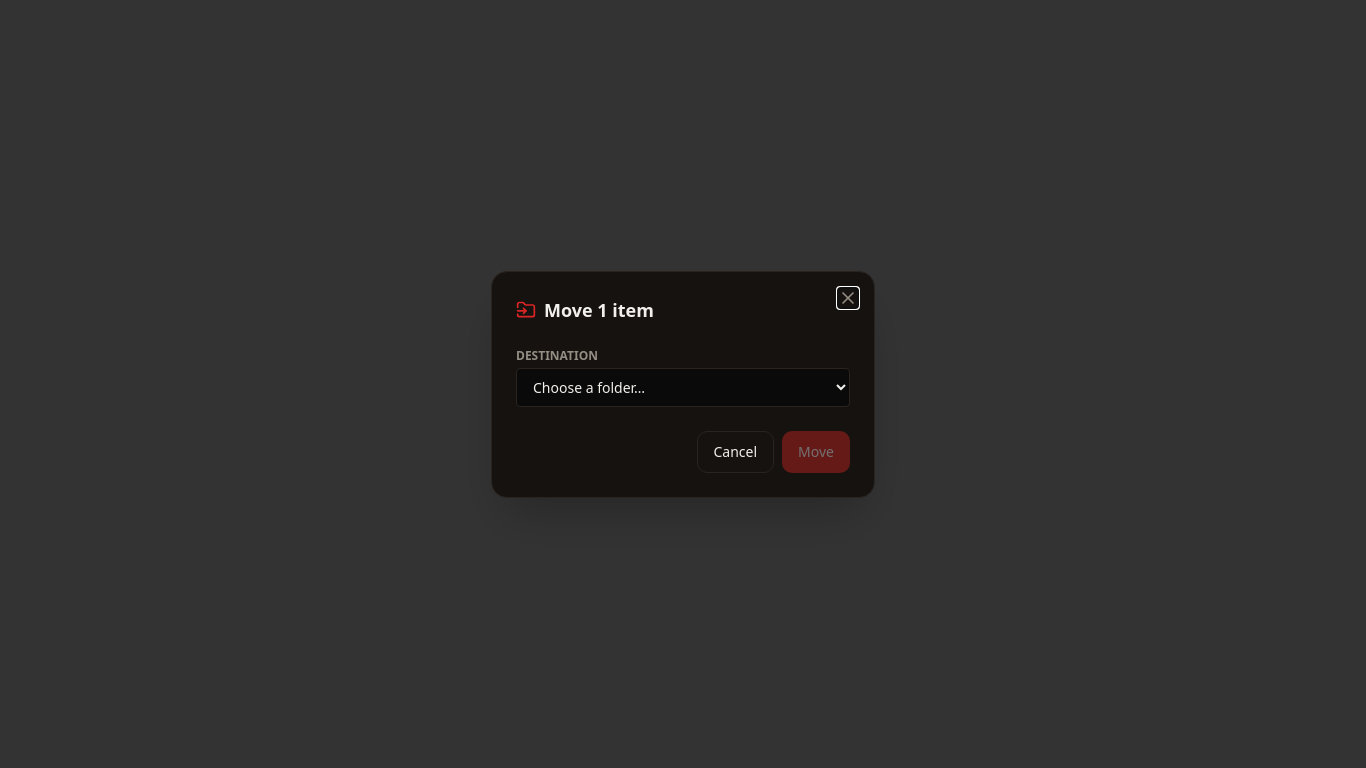
Test case: MoveFilesModal › warns that a shared destination widens who can read what is moved there
Select "Photos (shared)" in the dropdown labelled "Destination" at [683, 387], box [516,368,850,406]
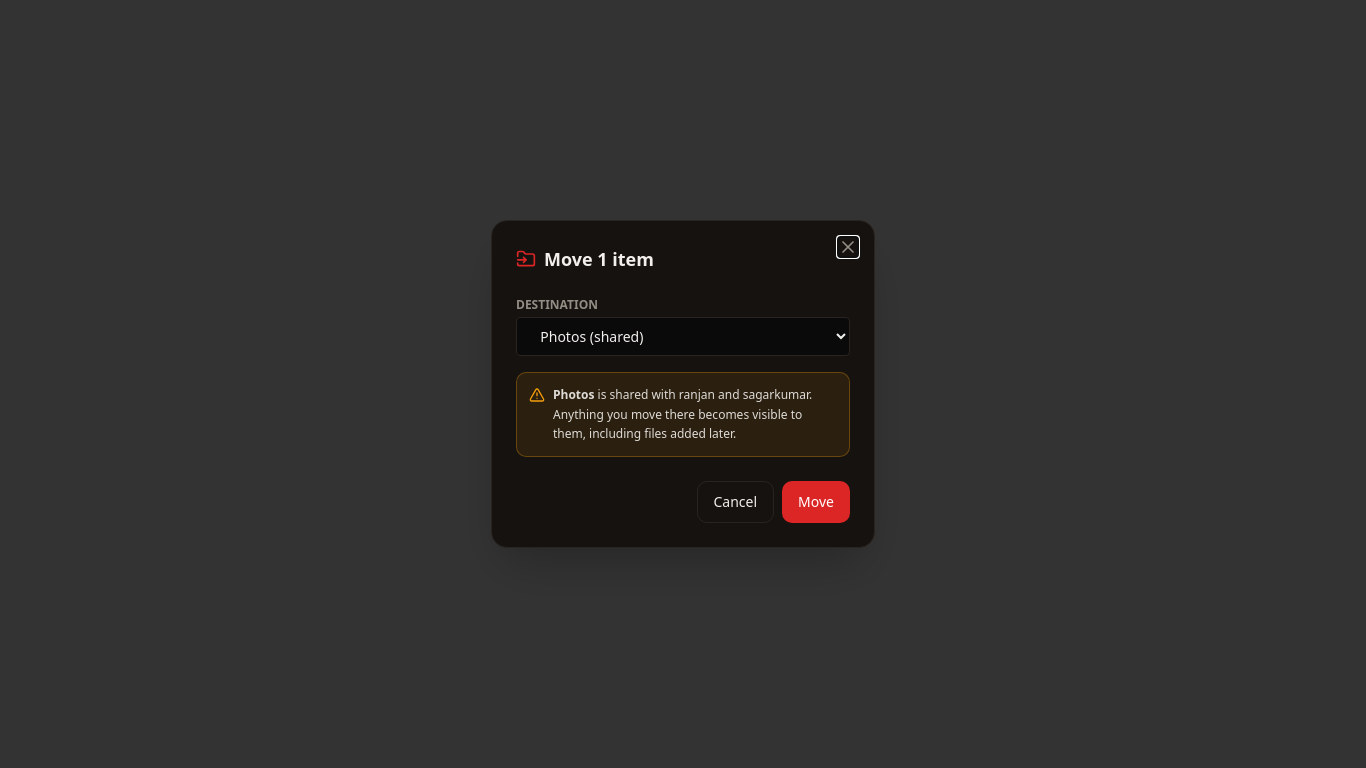
Expected: the text "becomes visible to them" is shown, [553,386,812,442]
Expected: the text "ranjan and sagarkumar" is shown, [679,386,809,403]
